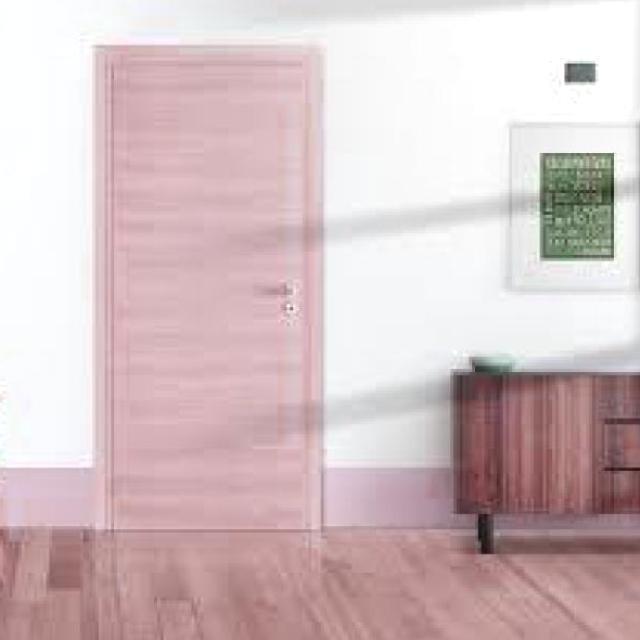door: (93, 43, 324, 532)
